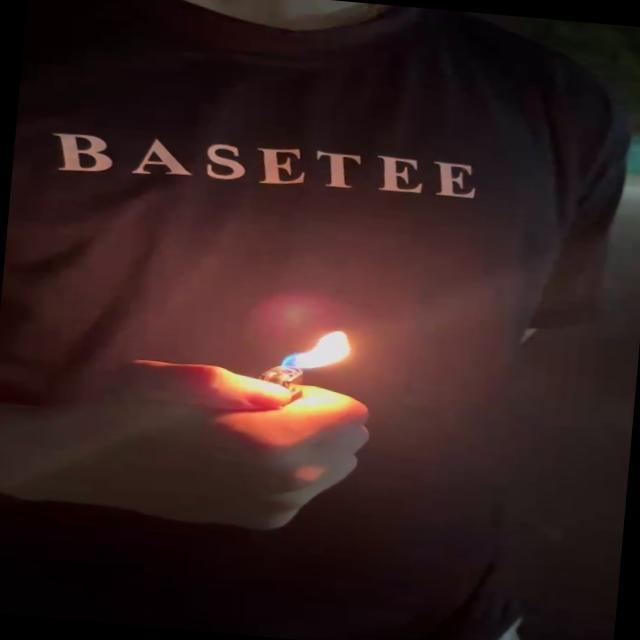Fire: (275, 326, 357, 381)
